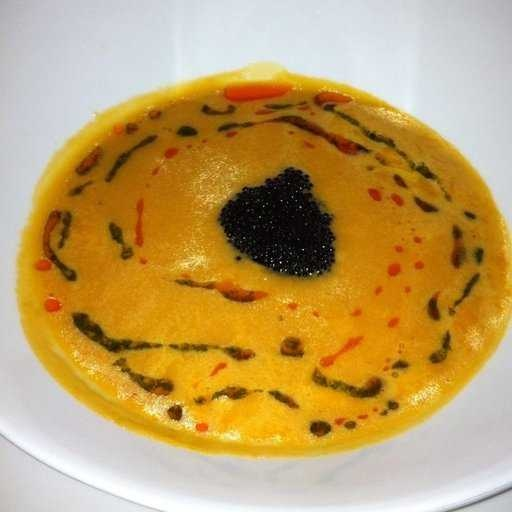soup: (5, 53, 508, 435)
